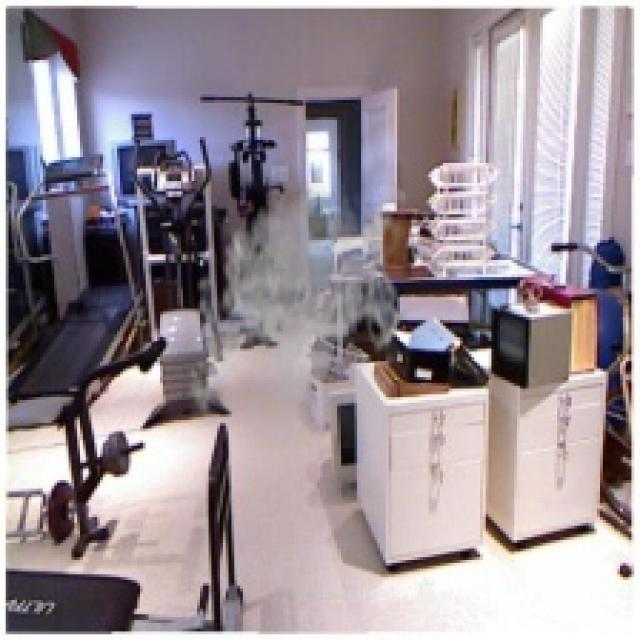Smoke: (183, 174, 406, 449)
